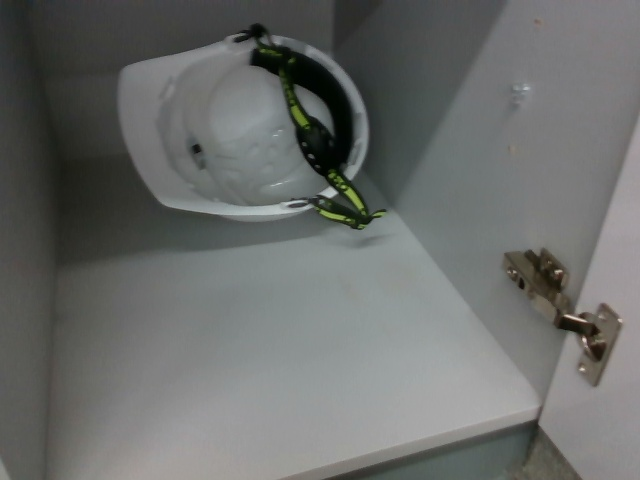helmet: (113, 29, 375, 223)
